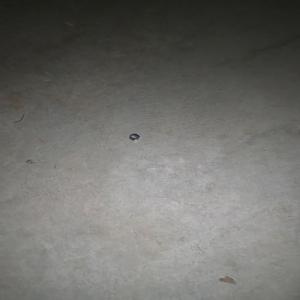Nut: (127, 133, 139, 140)
